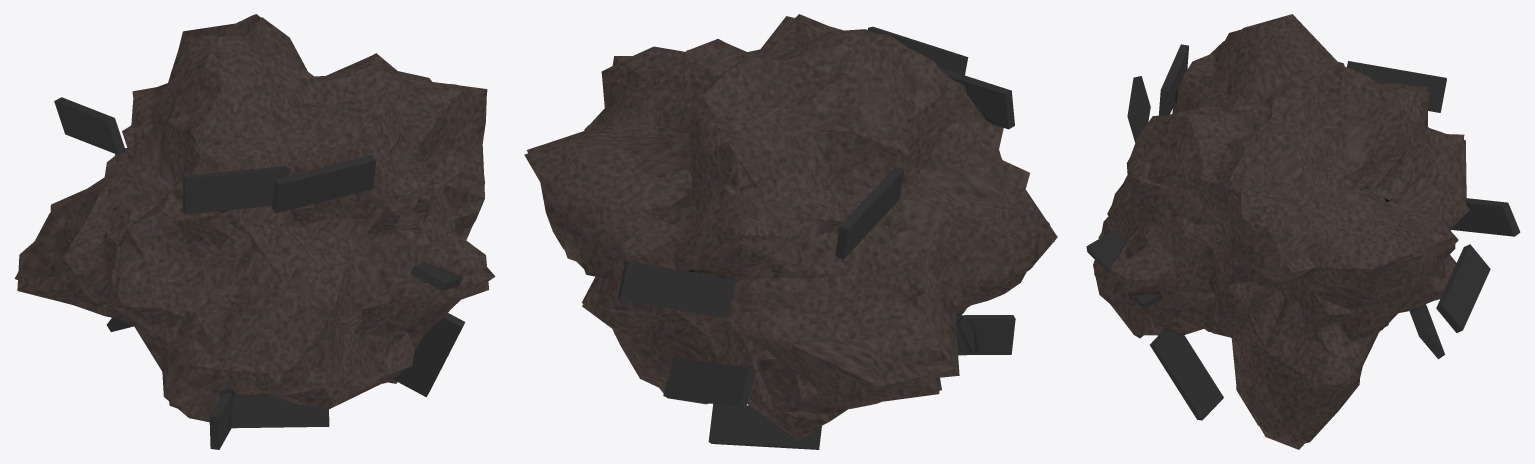
Rendered from sd_prop_lava3.glb.
The picture shows the model from 3 angles, left to right: view 1: azimuth 30°, elevation 25°; view 2: azimuth 150°, elevation 25°; view 3: azimuth 270°, elevation 25°; orthographic projection. The views are drawn at different scales.
Visible parts, largest first — view 1: LOD0_body, LOD1_body; view 2: LOD0_body, LOD1_body; view 3: LOD0_body, LOD1_body.
Part boxes in pixels (x1,y1,x2,y2): LOD0_body: (17, 14, 489, 449); LOD1_body: (14, 17, 495, 409); LOD0_body: (524, 16, 1054, 449); LOD1_body: (527, 14, 1057, 440); LOD0_body: (1086, 17, 1520, 444); LOD1_body: (1094, 14, 1466, 449).
Size of the model in its own units: 1.02 by 0.8686 by 0.958.
Materials: 1 (1 with a texture image).
